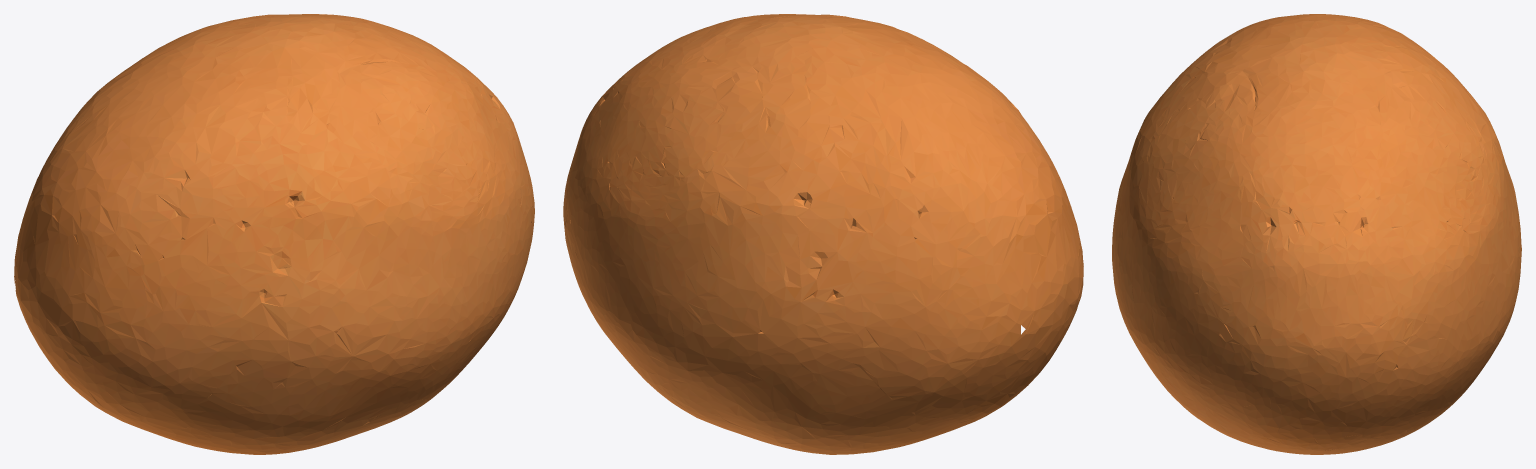
File: egg.glb
The picture shows the model from 3 angles, left to right: view 1: azimuth 30°, elevation 25°; view 2: azimuth 150°, elevation 25°; view 3: azimuth 270°, elevation 25°; orthographic projection. The views are drawn at different scales.
Visible parts, largest first — view 1: geometry_0; view 2: geometry_0; view 3: geometry_0.
Boxes of the visible parts, x1,y1,x2,y2 form: geometry_0: (14,14,534,454); geometry_0: (563,14,1083,454); geometry_0: (1112,14,1521,454).
Size of the model in its own units: 0.057 by 0.0451 by 0.0436.
1 material, 1 textured.
